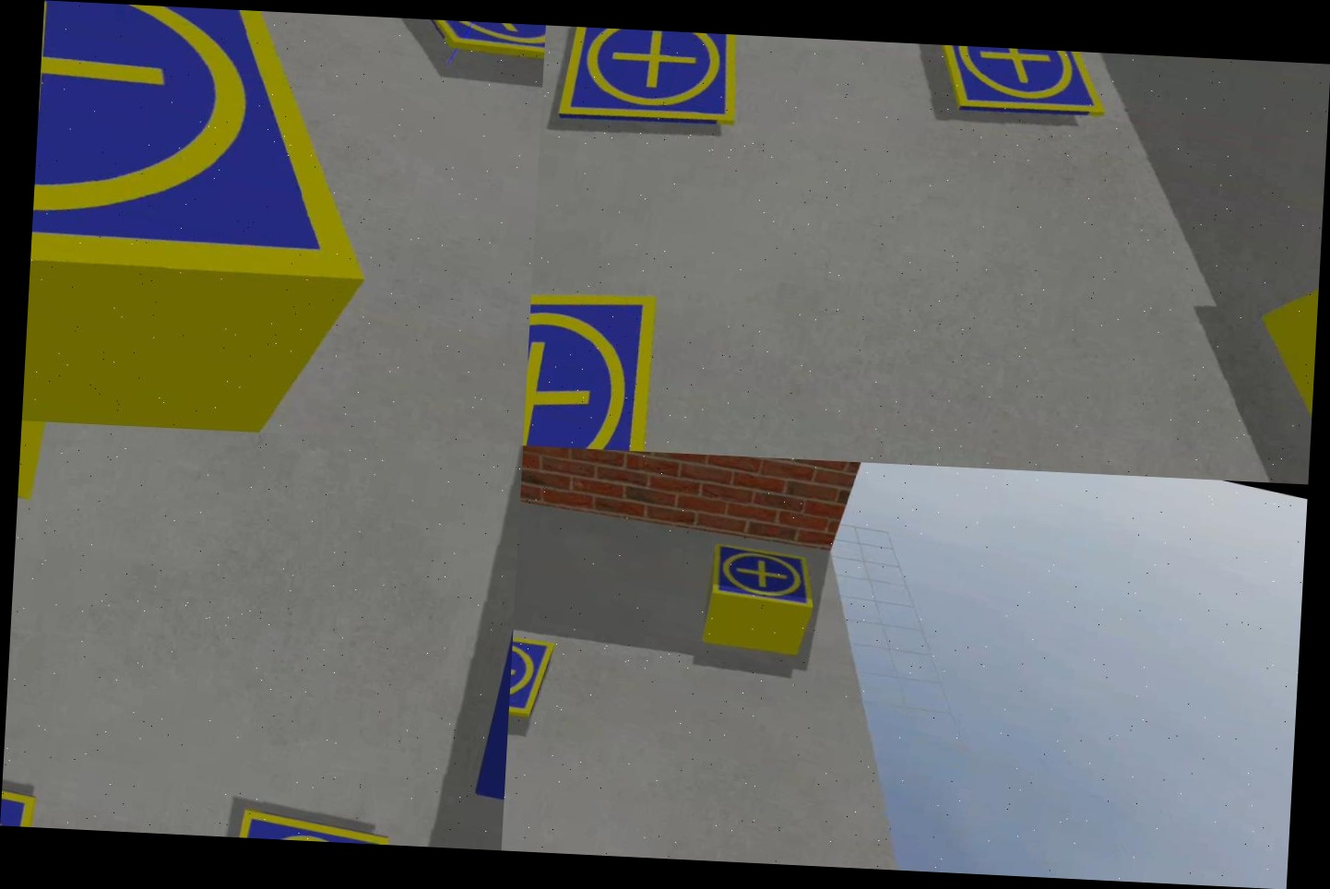small_base: (24, 0, 426, 407), (523, 250, 688, 454), (549, 26, 761, 160), (909, 43, 1122, 137), (703, 536, 827, 616), (381, 18, 546, 78), (219, 802, 395, 845), (508, 623, 553, 729)
